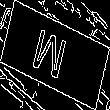M_S: (34, 23, 76, 87)
